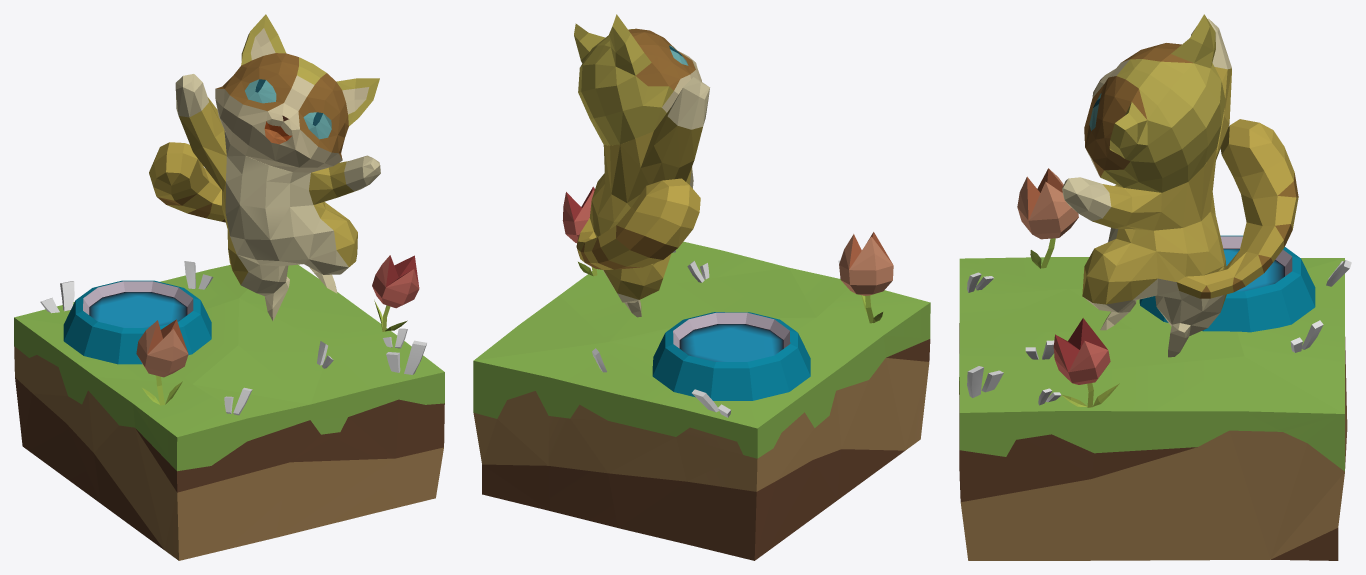
Rendered from 0026_rainyDay.fbx.
The picture shows the model from 3 angles, left to right: view 1: azimuth 30°, elevation 25°; view 2: azimuth 150°, elevation 25°; view 3: azimuth 270°, elevation 25°; orthographic projection. The views are drawn at different scales.
Visible parts, largest first — view 1: Plate, Cat_Body, Cat_Head, Bowl, Cat_Tail, [water], Tulip02, Tulip01, Grass (×2); view 2: Plate, Cat_Head, Cat_Body, Bowl, Cat_Tail, [water], Tulip02, Tulip01; view 3: Plate, Cat_Body, Cat_Head, Cat_Tail, Bowl, Tulip02, Tulip01, [water], Grass.
Part boxes in pixels (x1,y1,x2,y2): Plate: [14, 264, 444, 560]; Cat_Body: [175, 74, 380, 320]; Cat_Head: [215, 14, 379, 172]; Bowl: [63, 280, 211, 364]; Cat_Tail: [149, 142, 225, 222]; [water]: [89, 292, 187, 327]; Tulip02: [136, 319, 188, 405]; Tulip01: [372, 255, 419, 331]; Grass (×2): [40, 281, 426, 374]; Plate: [473, 241, 930, 560]; Cat_Head: [574, 14, 701, 145]; Cat_Body: [589, 77, 709, 317]; Bowl: [652, 312, 810, 400]; Cat_Tail: [576, 178, 700, 269]; [water]: [679, 324, 783, 361]; Tulip02: [839, 232, 893, 323]; Tulip01: [562, 186, 597, 276]; Plate: [959, 257, 1347, 560]; Cat_Body: [1062, 18, 1231, 357]; Cat_Head: [1084, 14, 1225, 192]; Cat_Tail: [1176, 119, 1298, 298]; Bowl: [1139, 235, 1315, 332]; Tulip02: [1017, 168, 1078, 268]; Tulip01: [1053, 318, 1119, 407]; [water]: [1223, 248, 1284, 291]; Grass: [967, 366, 1003, 397].
Bounding box in the file's own units: 2.77 × 3.92 × 2.75.
